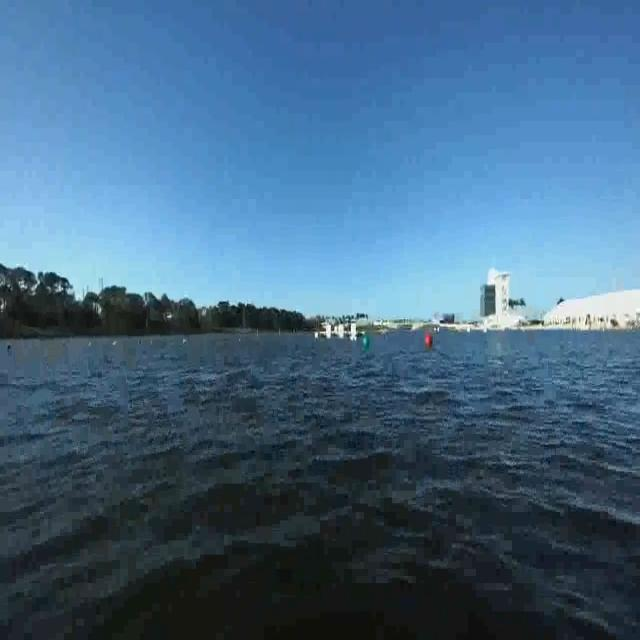green-buoy: (362, 332, 371, 349)
red-buoy: (424, 332, 434, 348)
